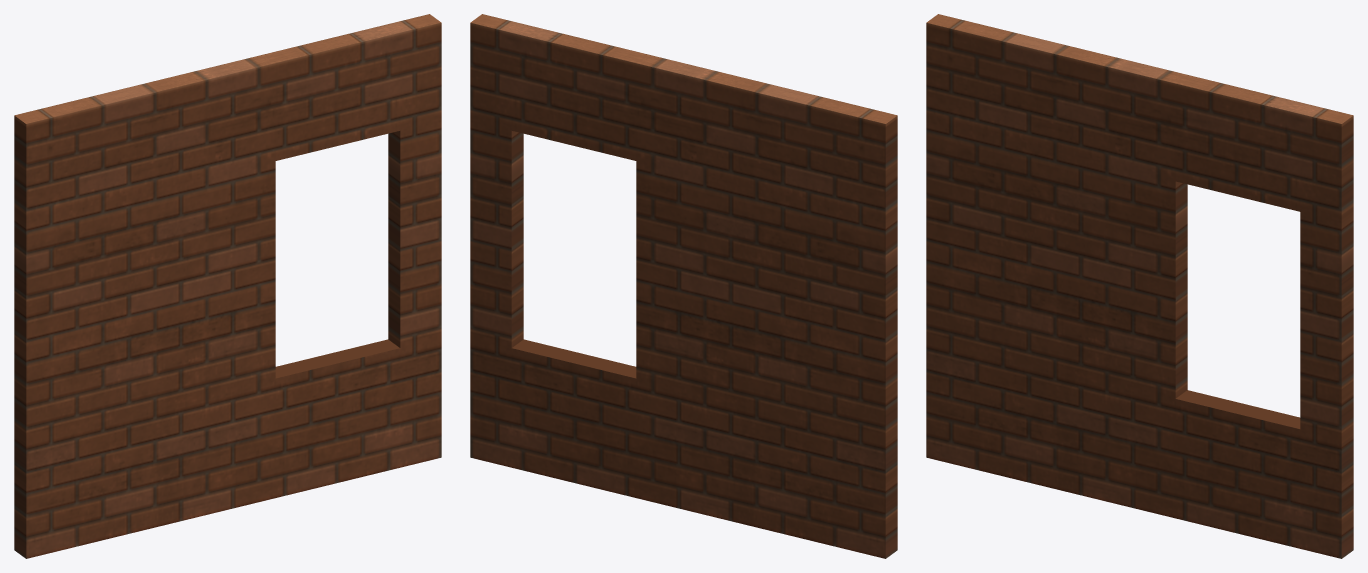
Rendered from wall5_7.fbx.
The picture shows the model from 3 angles, left to right: view 1: azimuth 30°, elevation 25°; view 2: azimuth 150°, elevation 25°; view 3: azimuth 330°, elevation 25°; orthographic projection.
Parts seen in each view (by area): view 1: wall5_brick_red_g; view 2: wall5_brick_red_g; view 3: wall5_brick_red_g.
Part boxes in pixels (x1=…): wall5_brick_red_g: x1=14, y1=14, x2=441, y2=558; wall5_brick_red_g: x1=470, y1=14, x2=897, y2=558; wall5_brick_red_g: x1=926, y1=14, x2=1353, y2=558.
Size of the model in its own units: 400 by 400 by 20.
